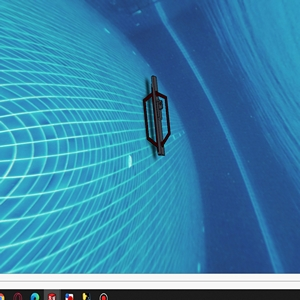submarine: (146, 75, 171, 152)
